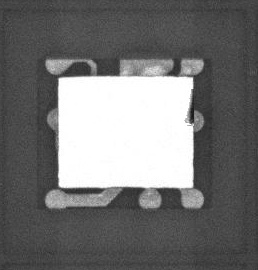DIE_BROKEN: (185, 88, 195, 126)
